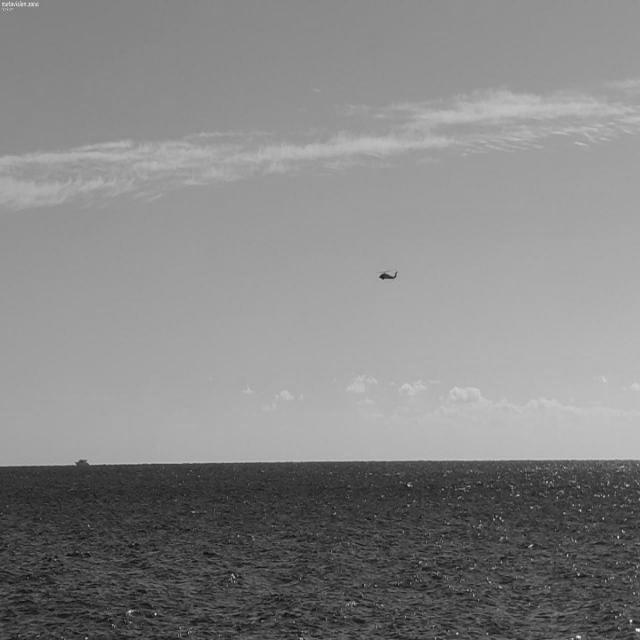helikopter: (355, 244, 423, 313)
